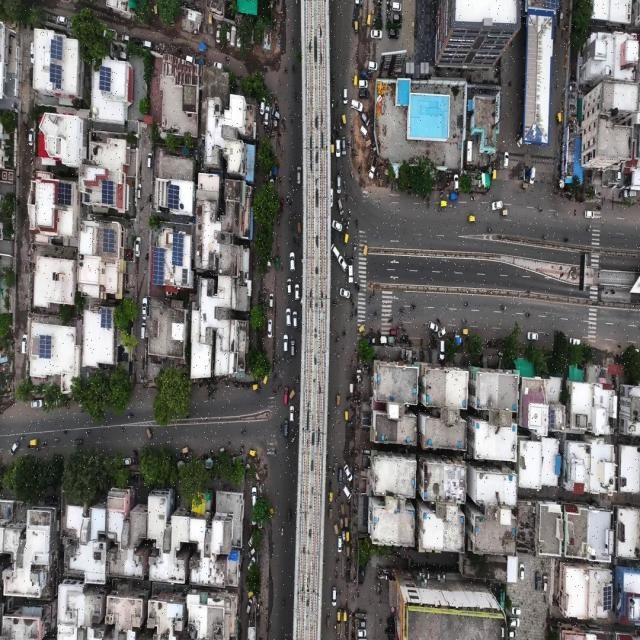3W: (142, 426, 154, 444), (466, 212, 479, 226), (438, 195, 448, 212), (491, 166, 499, 187), (333, 391, 342, 409), (355, 322, 366, 336), (342, 606, 350, 624), (500, 208, 512, 220), (556, 111, 563, 131), (339, 110, 348, 125), (354, 19, 361, 38), (329, 142, 336, 160), (343, 409, 352, 423), (346, 568, 352, 589), (343, 513, 350, 530), (288, 389, 297, 402), (458, 326, 468, 337), (354, 73, 359, 93), (335, 609, 342, 623), (367, 10, 373, 26), (326, 614, 332, 630), (27, 437, 39, 445), (362, 242, 367, 261), (339, 502, 345, 517), (345, 542, 350, 560), (249, 447, 257, 458), (182, 446, 190, 457), (343, 230, 349, 244), (344, 528, 350, 542), (344, 558, 351, 570), (328, 506, 333, 522), (262, 375, 270, 385), (296, 221, 302, 234), (327, 489, 333, 502), (336, 621, 341, 636), (252, 383, 258, 390)
Cars: (132, 235, 142, 263), (26, 60, 36, 88), (533, 568, 542, 594), (342, 476, 352, 499), (340, 82, 350, 105), (27, 125, 36, 150), (542, 568, 550, 596), (566, 335, 582, 349), (330, 218, 343, 235), (8, 438, 20, 456), (336, 464, 344, 491), (359, 110, 371, 128), (526, 328, 540, 343), (365, 56, 379, 71), (369, 27, 384, 41), (266, 314, 274, 340), (426, 318, 439, 334), (489, 196, 502, 212), (136, 182, 144, 208), (508, 599, 520, 616), (389, 0, 406, 12), (357, 87, 370, 102), (194, 53, 207, 68), (344, 462, 354, 481), (284, 304, 292, 327), (214, 19, 222, 42), (282, 412, 289, 438), (141, 294, 147, 324), (246, 556, 257, 572), (438, 339, 446, 361), (280, 334, 289, 353), (582, 207, 595, 220), (292, 304, 298, 332), (336, 197, 344, 218), (272, 255, 280, 276), (529, 164, 536, 187), (518, 562, 526, 582), (286, 273, 292, 299), (264, 103, 270, 129), (115, 46, 128, 58), (282, 382, 289, 404), (359, 126, 370, 140), (389, 27, 400, 41), (142, 37, 153, 51), (145, 150, 153, 169), (293, 281, 300, 302), (30, 398, 42, 410), (331, 242, 339, 260), (346, 264, 354, 282), (54, 15, 70, 24), (350, 98, 363, 109), (392, 11, 403, 24), (340, 285, 350, 299), (28, 38, 35, 58), (22, 333, 28, 356), (251, 482, 257, 505), (260, 93, 266, 116), (358, 623, 367, 638), (139, 319, 145, 341), (331, 585, 337, 607), (510, 618, 521, 630), (120, 31, 132, 42), (358, 68, 371, 78), (268, 287, 274, 308), (288, 250, 294, 271), (290, 336, 296, 357), (246, 534, 255, 548), (245, 595, 252, 613), (356, 617, 367, 628), (337, 535, 343, 555), (504, 148, 509, 172), (342, 136, 348, 156), (516, 132, 523, 149), (289, 404, 295, 423), (338, 256, 346, 270), (452, 175, 459, 191), (286, 506, 291, 528), (120, 458, 132, 467), (271, 106, 280, 118), (507, 630, 517, 640), (438, 326, 447, 337), (357, 79, 368, 88), (246, 548, 256, 557), (337, 175, 342, 193), (184, 53, 194, 62), (297, 164, 301, 186), (336, 138, 341, 155), (388, 329, 400, 336), (129, 36, 141, 43), (231, 24, 234, 49), (212, 60, 224, 66)
LCV: (367, 154, 377, 186)
M2W: (280, 63, 292, 83), (278, 596, 289, 614), (353, 238, 362, 260), (279, 351, 288, 371), (410, 300, 417, 324), (287, 27, 295, 48), (271, 370, 279, 390), (296, 371, 303, 393), (332, 567, 340, 585), (270, 388, 278, 405), (347, 309, 356, 324), (330, 93, 336, 115), (290, 182, 298, 198), (372, 306, 379, 324), (522, 307, 532, 319), (331, 64, 337, 84), (292, 63, 298, 83), (349, 124, 356, 140), (61, 426, 71, 437), (499, 303, 510, 313), (462, 302, 474, 311), (333, 121, 338, 142), (287, 109, 294, 124), (486, 225, 494, 238), (347, 170, 356, 181), (333, 298, 340, 312), (126, 412, 134, 424), (284, 438, 290, 454), (210, 396, 218, 408), (348, 292, 354, 308), (544, 328, 552, 340), (119, 425, 126, 438), (291, 432, 296, 450), (85, 425, 92, 437), (290, 426, 297, 438), (339, 326, 346, 338), (342, 181, 348, 195), (238, 427, 247, 436), (560, 236, 570, 244), (326, 462, 332, 475), (353, 307, 359, 320), (333, 331, 338, 346), (284, 356, 290, 368), (239, 444, 245, 456), (292, 212, 298, 224), (288, 216, 294, 228), (296, 238, 302, 250), (331, 462, 336, 476), (333, 454, 338, 468), (292, 231, 296, 248), (543, 234, 550, 243), (272, 450, 278, 460), (277, 384, 282, 396), (354, 216, 359, 228), (338, 488, 342, 502), (553, 212, 560, 220), (349, 255, 354, 266), (356, 285, 361, 296), (20, 434, 26, 443), (399, 307, 405, 316), (354, 278, 358, 291), (288, 173, 292, 186), (286, 193, 290, 206), (34, 444, 41, 451), (41, 438, 48, 445), (53, 436, 60, 443), (276, 356, 280, 368), (345, 190, 348, 206), (338, 118, 342, 130), (289, 200, 293, 212), (293, 88, 297, 100), (328, 480, 333, 489), (327, 409, 330, 424), (347, 209, 352, 217)
